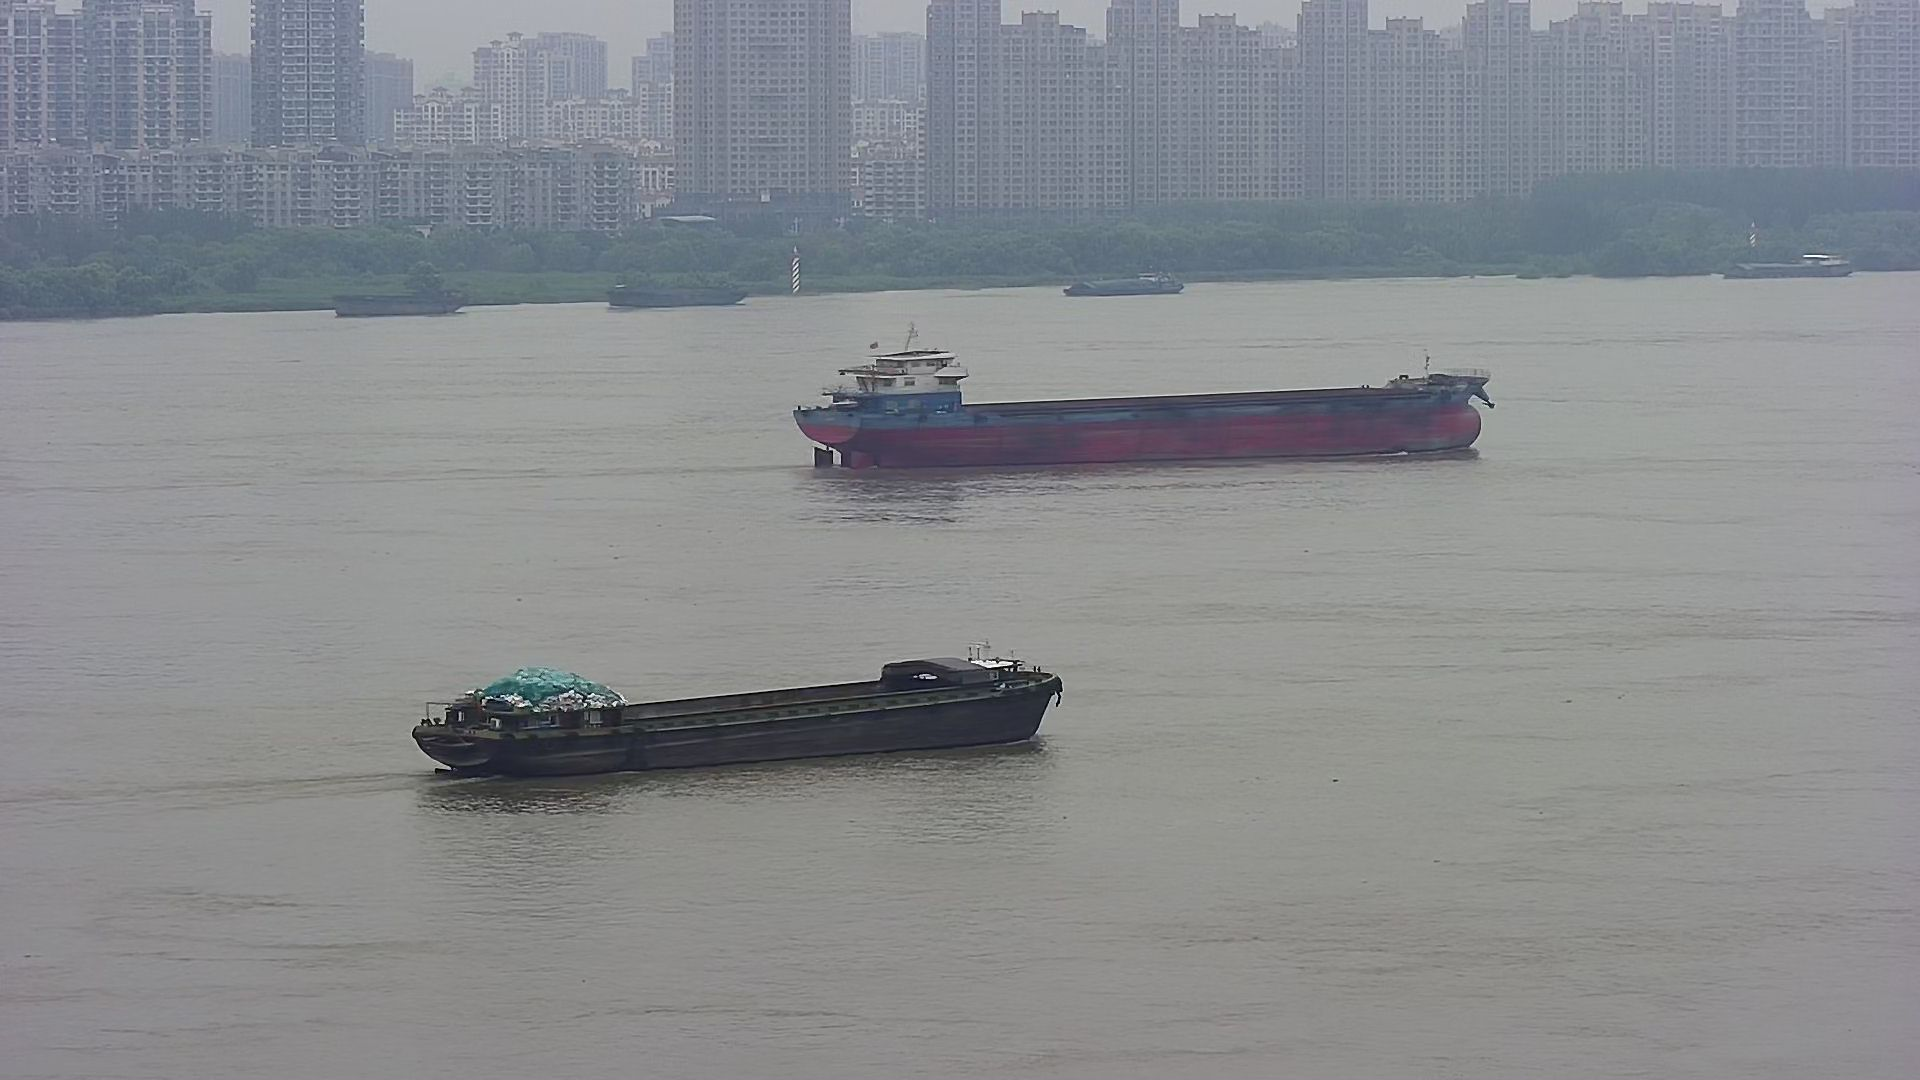boat: (335, 291, 465, 316), (612, 281, 749, 305)
mast: (790, 247, 803, 297)
ship: (794, 347, 1494, 473), (410, 647, 1064, 778), (1071, 269, 1182, 294), (1730, 253, 1849, 276)
